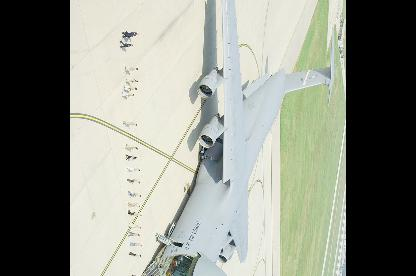C17: (141, 0, 336, 275)
